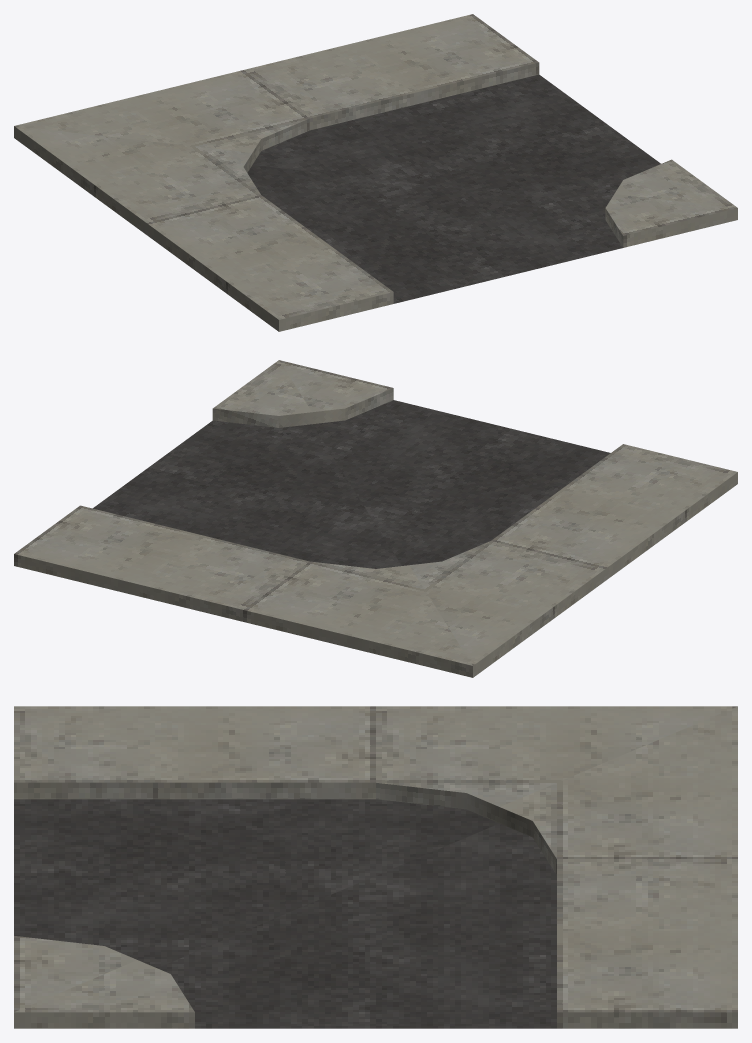
File: roadAsphalt_corner.fbx
3 renders of one model, top to bottom at view 1: azimuth 30°, elevation 25°; view 2: azimuth 150°, elevation 25°; view 3: azimuth 270°, elevation 25°, orthographic. The views are drawn at different scales.
Visible parts, largest first — view 1: roadAsphalt_corner; view 2: roadAsphalt_corner; view 3: roadAsphalt_corner.
Boxes of the visible parts, x1,y1,x2,y2 form: roadAsphalt_corner: (14, 14, 737, 331); roadAsphalt_corner: (14, 360, 737, 677); roadAsphalt_corner: (14, 706, 737, 1028).
Size of the model in its own units: 20 by 0.5 by 20.
